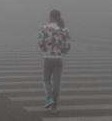person: (36, 8, 72, 112)
